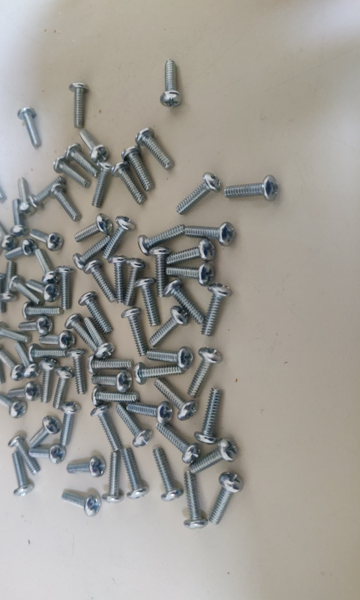shortscrew: (208, 471, 245, 526), (176, 173, 222, 216), (155, 422, 201, 464), (155, 378, 198, 422), (163, 280, 205, 324), (189, 438, 240, 474), (149, 306, 192, 348), (188, 347, 222, 399), (135, 127, 174, 171), (194, 388, 224, 445), (201, 284, 233, 337), (153, 448, 184, 502), (116, 403, 153, 448), (111, 161, 147, 206), (121, 145, 155, 192), (183, 471, 208, 531), (90, 404, 121, 452), (139, 225, 185, 257), (79, 292, 113, 335), (225, 176, 279, 203), (103, 216, 136, 260), (84, 259, 117, 303), (74, 234, 112, 271), (122, 448, 149, 500), (121, 307, 148, 357), (134, 278, 161, 327), (8, 434, 40, 475), (168, 238, 216, 265), (49, 183, 82, 222), (185, 222, 236, 247), (134, 362, 187, 386), (65, 143, 100, 179), (28, 177, 65, 211), (65, 314, 97, 353), (85, 318, 115, 359), (147, 346, 195, 371), (124, 258, 148, 308), (53, 156, 90, 188), (167, 263, 216, 287), (103, 451, 125, 503), (74, 214, 113, 243), (160, 59, 183, 108), (150, 247, 172, 298), (58, 401, 82, 447), (127, 401, 174, 424), (11, 452, 35, 497), (68, 82, 90, 130), (92, 385, 140, 407), (29, 416, 62, 448), (61, 492, 101, 518), (53, 366, 76, 411), (66, 349, 89, 394), (9, 276, 43, 306), (79, 129, 109, 163), (92, 161, 113, 209), (34, 249, 61, 286), (108, 256, 128, 305), (14, 343, 41, 379), (18, 107, 41, 149), (91, 370, 133, 393), (88, 355, 134, 376), (55, 265, 75, 311), (38, 359, 58, 404), (67, 456, 107, 478), (0, 350, 28, 381), (0, 261, 20, 304), (26, 279, 61, 303), (28, 344, 69, 364), (30, 229, 65, 252), (10, 199, 30, 238), (29, 445, 67, 465), (0, 393, 28, 419), (0, 322, 32, 344), (39, 331, 76, 350), (5, 239, 38, 260), (8, 382, 42, 402), (17, 178, 34, 217), (0, 220, 19, 251), (0, 273, 7, 315), (0, 345, 7, 385), (0, 167, 6, 203), (0, 228, 3, 259)
